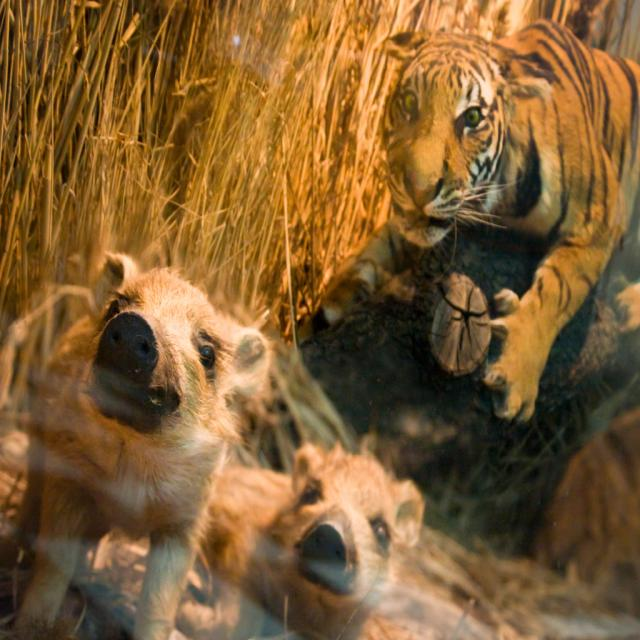pig: (33, 233, 233, 583), (254, 398, 426, 604)
tiger: (312, 14, 562, 388)
